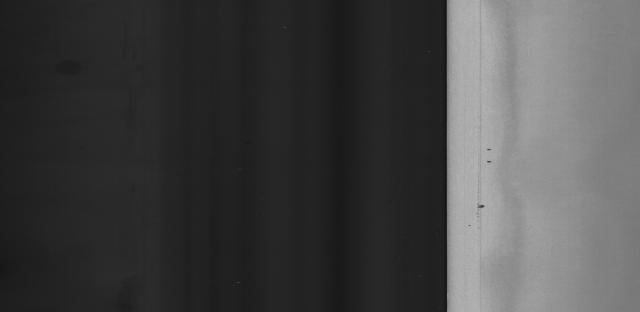oil_spot: (482, 143, 495, 169), (474, 203, 489, 214)
